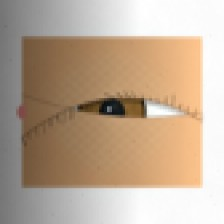hemorrhage_spot: (66, 103, 124, 150)
